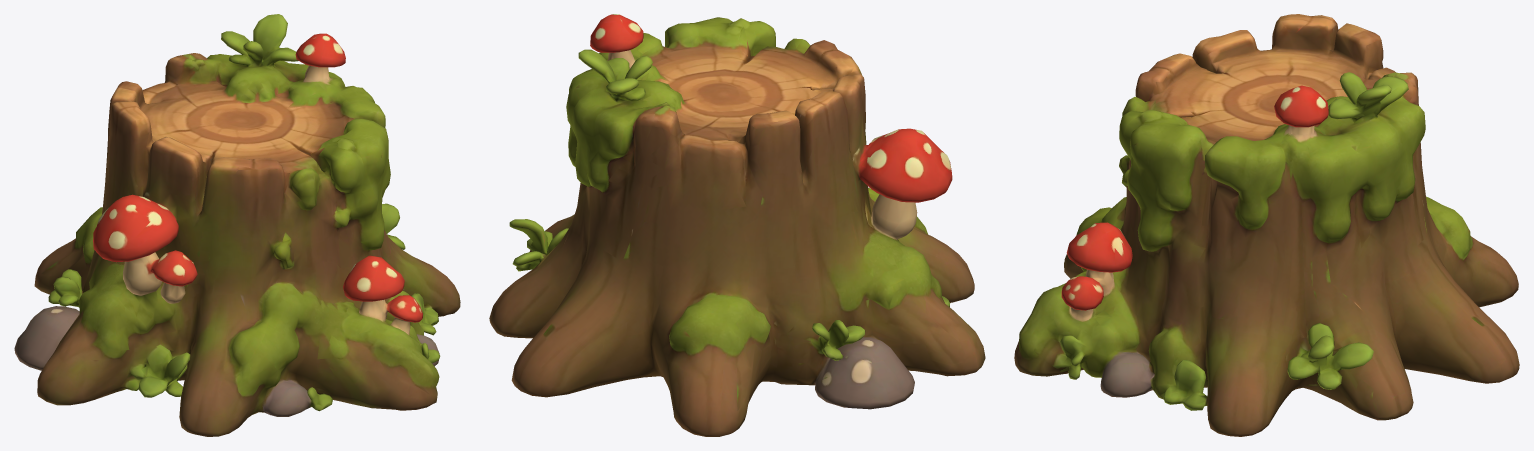
3 renders of one model, left to right at view 1: azimuth 30°, elevation 25°; view 2: azimuth 150°, elevation 25°; view 3: azimuth 270°, elevation 25°, orthographic. The views are drawn at different scales.
Visible parts, largest first — view 1: mushroom-stump; view 2: mushroom-stump; view 3: mushroom-stump.
Boxes of the visible parts, <box> form: mushroom-stump: <box>14,14,460,436</box>; mushroom-stump: <box>489,14,985,436</box>; mushroom-stump: <box>1014,14,1519,436</box>.
Bounding box in the file's own units: 1.28 × 0.7993 × 1.24.
1 material, 1 textured.
